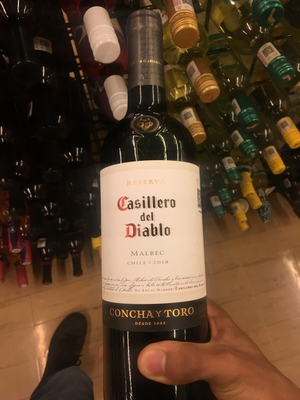casillero del diablo malbec: (84, 15, 242, 400)
